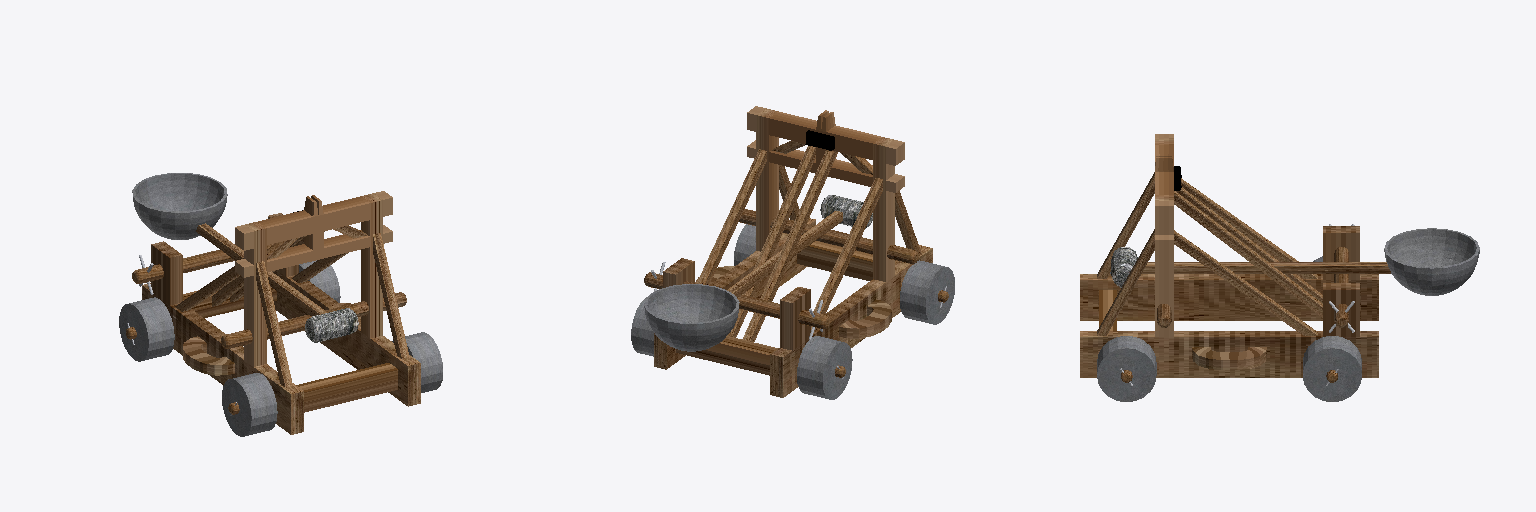
3 views of the same model, side by side, from view 1: azimuth 30°, elevation 25°; view 2: azimuth 150°, elevation 25°; view 3: azimuth 270°, elevation 25° (orthographic).
Parts seen in each view (by area): view 1: estructura Catapulta, Catapulta catapultar_ACC bol Cullera, Catapulta Ruedas_GRP roda4 Roda4, Catapulta Ruedas_GRP roda2 Roda2, Catapulta travesa�os_GRP travesserDr3, Catapulta travesa�os_GRP travesserEsq3, Catapulta catapultar_ACC Cullera traveserCullera, Catapulta Ruedas_GRP roda3 Roda3, Catapulta corro2 catapultar_ACC, Catapulta catapultar_ACC Cullera contrapes, Catapulta corro1 Corro1, Catapulta travesa�os_GRP travesserDr1 (+1 smaller); view 2: estructura Catapulta, Catapulta catapultar_ACC bol Cullera, Catapulta Ruedas_GRP roda2 Roda2, Catapulta Ruedas_GRP roda4 Roda4, Catapulta travesa�os_GRP travesserDr2, Catapulta travesa�os_GRP travesserEsq2, Catapulta travesa�os_GRP travesserEsq1, Catapulta travesa�os_GRP travesserDr1, Catapulta corro2 catapultar_ACC, Catapulta catapultar_ACC Cullera traveserCullera, Catapulta corro1 Corro1, Catapulta roda1 Roda1 Ruedas_GRP (+3 smaller); view 3: estructura Catapulta, Catapulta catapultar_ACC bol Cullera, Catapulta Ruedas_GRP roda3 Roda3, Catapulta roda1 Roda1 Ruedas_GRP, Catapulta catapultar_ACC Cullera traveserCullera, Catapulta travesa�os_GRP travesserEsq2, Catapulta travesa�os_GRP travesserEsq1, Catapulta travesa�os_GRP travesserDr1, Catapulta travesa�os_GRP travesserEsq3, Catapulta travesa�os_GRP travesserDr2, Catapulta travesa�os_GRP travesserDr3, Catapulta catapultar_ACC Cullera contrapes (+1 smaller).
Boxes of the visible parts, box(x1,y1,x2,y2) form: estructura Catapulta: box(142, 191, 420, 434); Catapulta catapultar_ACC bol Cullera: box(132, 173, 227, 239); Catapulta Ruedas_GRP roda4 Roda4: box(222, 373, 277, 436); Catapulta Ruedas_GRP roda2 Roda2: box(119, 297, 174, 361); Catapulta travesa�os_GRP travesserDr3: box(256, 261, 292, 387); Catapulta travesa�os_GRP travesserEsq3: box(373, 233, 409, 358); Catapulta catapultar_ACC Cullera traveserCullera: box(196, 223, 327, 315); Catapulta Ruedas_GRP roda3 Roda3: box(392, 332, 442, 392); Catapulta corro2 catapultar_ACC: box(221, 292, 406, 348); Catapulta catapultar_ACC Cullera contrapes: box(305, 308, 358, 342); Catapulta corro1 Corro1: box(132, 243, 274, 283); Catapulta travesa�os_GRP travesserDr1: box(175, 266, 240, 311); estructura Catapulta: box(654, 106, 932, 397); Catapulta catapultar_ACC bol Cullera: box(644, 284, 739, 351); Catapulta Ruedas_GRP roda2 Roda2: box(797, 336, 852, 399); Catapulta Ruedas_GRP roda4 Roda4: box(900, 260, 954, 324); Catapulta travesa�os_GRP travesserDr2: box(742, 150, 837, 341); Catapulta travesa�os_GRP travesserEsq2: box(727, 146, 815, 337); Catapulta travesa�os_GRP travesserEsq1: box(696, 149, 766, 284); Catapulta travesa�os_GRP travesserDr1: box(811, 178, 882, 331); Catapulta corro2 catapultar_ACC: box(739, 209, 918, 264); Catapulta catapultar_ACC Cullera traveserCullera: box(727, 211, 842, 297); Catapulta corro1 Corro1: box(644, 272, 829, 329); Catapulta roda1 Roda1 Ruedas_GRP: box(631, 297, 653, 356); estructura Catapulta: box(1080, 134, 1378, 377); Catapulta catapultar_ACC bol Cullera: box(1384, 228, 1479, 295); Catapulta Ruedas_GRP roda3 Roda3: box(1097, 336, 1156, 401); Catapulta roda1 Roda1 Ruedas_GRP: box(1303, 336, 1361, 401); Catapulta catapultar_ACC Cullera traveserCullera: box(1142, 262, 1390, 273); Catapulta travesa�os_GRP travesserEsq2: box(1174, 191, 1322, 317); Catapulta travesa�os_GRP travesserEsq1: box(1174, 230, 1317, 335); Catapulta travesa�os_GRP travesserDr1: box(1181, 178, 1317, 278); Catapulta travesa�os_GRP travesserEsq3: box(1097, 229, 1154, 335); Catapulta travesa�os_GRP travesserDr2: box(1176, 187, 1322, 303); Catapulta travesa�os_GRP travesserDr3: box(1097, 172, 1154, 278); Catapulta catapultar_ACC Cullera contrapes: box(1111, 247, 1137, 287).
Bounding box in the file's own units: 15.8 × 14.7 × 26.74.
5 materials, 4 textured.